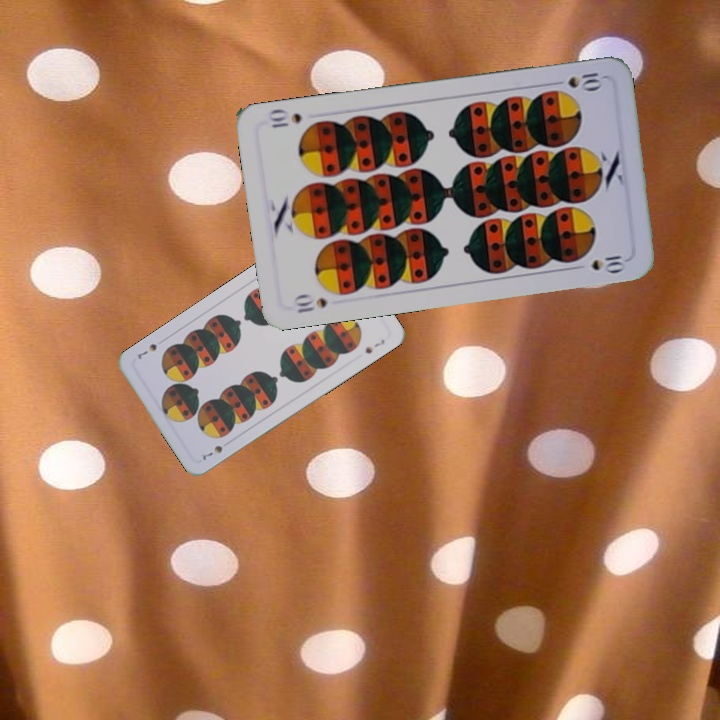S10: (564, 68, 605, 92), (290, 291, 330, 315)
S7: (198, 441, 225, 463)
